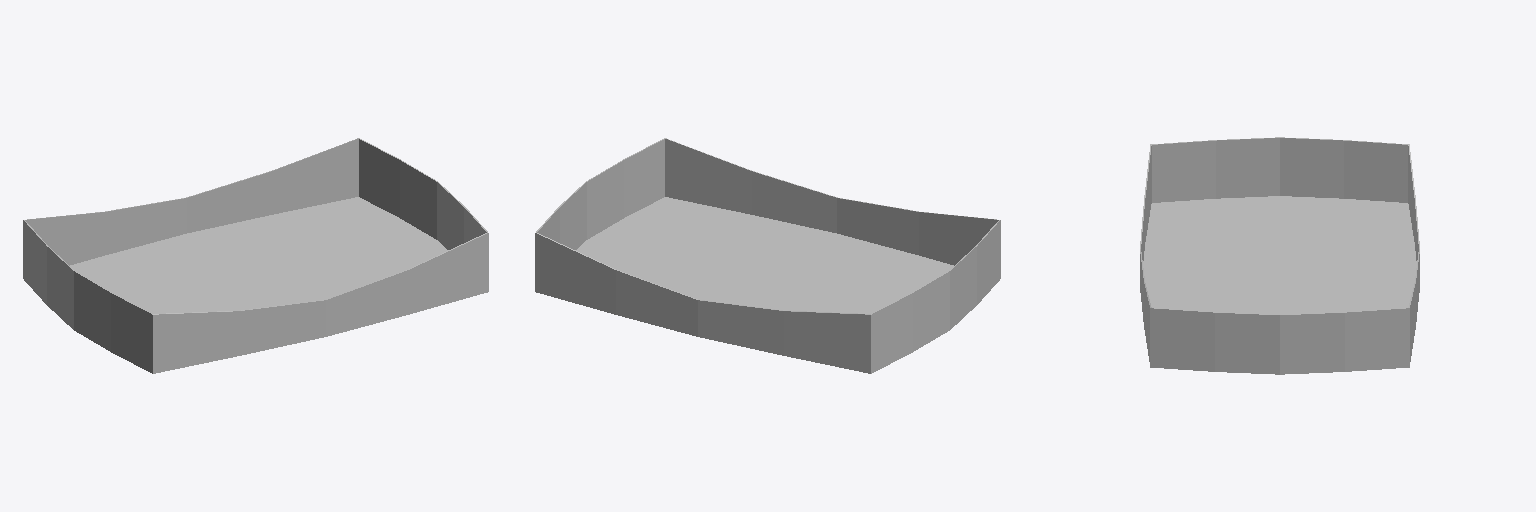
The model's file is FoodTray.obj.
3 renders of one model, left to right at view 1: azimuth 30°, elevation 25°; view 2: azimuth 150°, elevation 25°; view 3: azimuth 270°, elevation 25°, orthographic.
Visible parts, largest first — view 1: pCube1; view 2: pCube1; view 3: pCube1.
Part boxes in pixels (x1,y1,x2,y2): pCube1: (23, 138, 488, 373); pCube1: (535, 138, 1000, 373); pCube1: (1140, 137, 1419, 374).
Size of the model in its own units: 6.56 by 1.02 by 4.37.